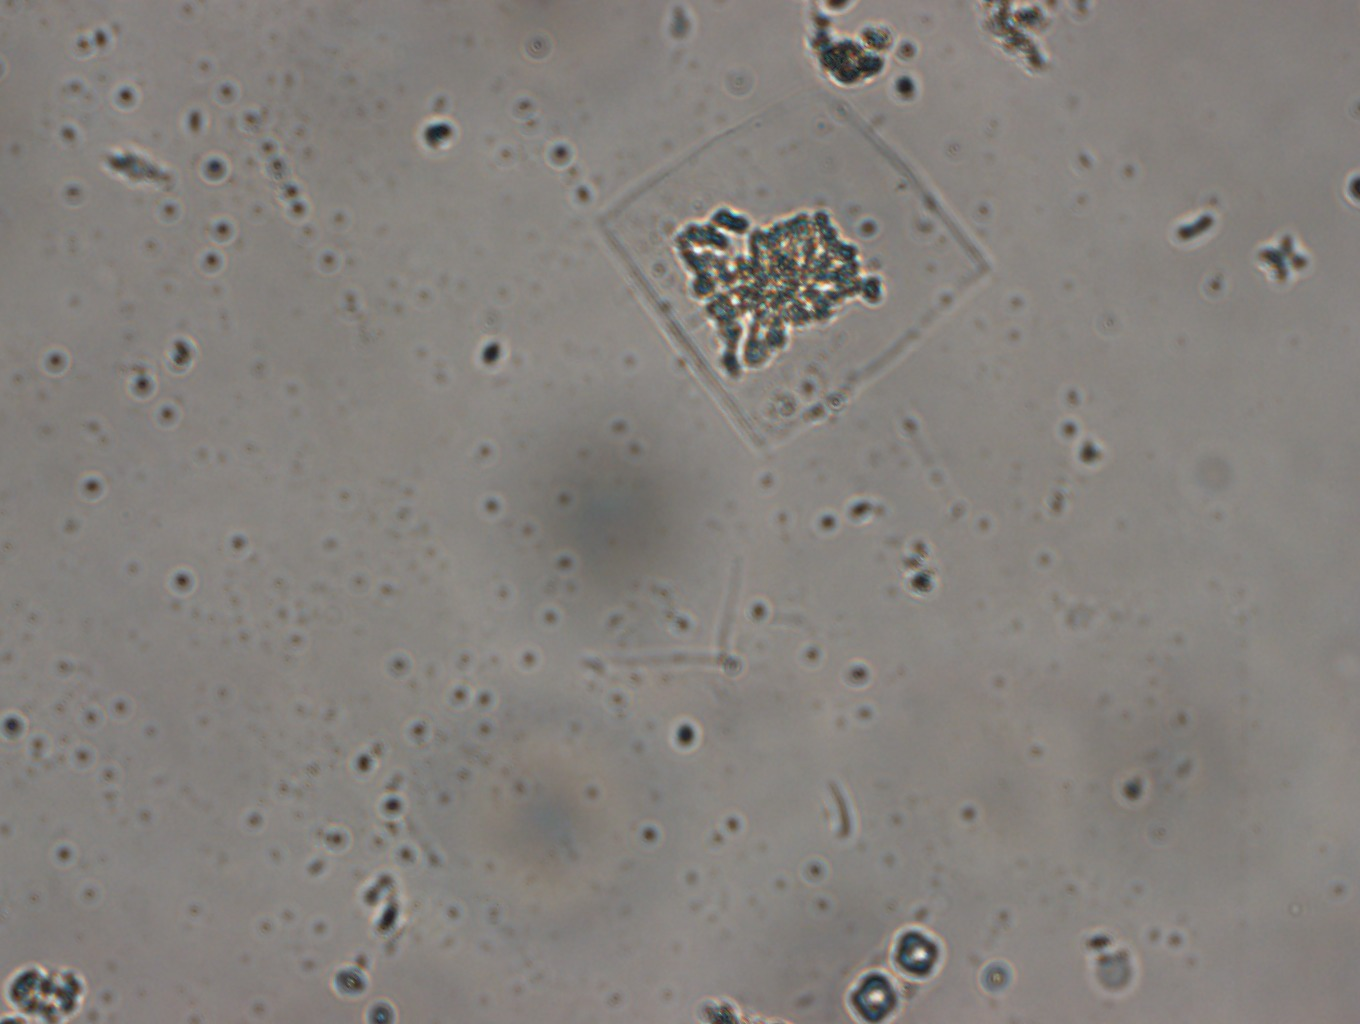helicotheca: (593, 79, 997, 458)
